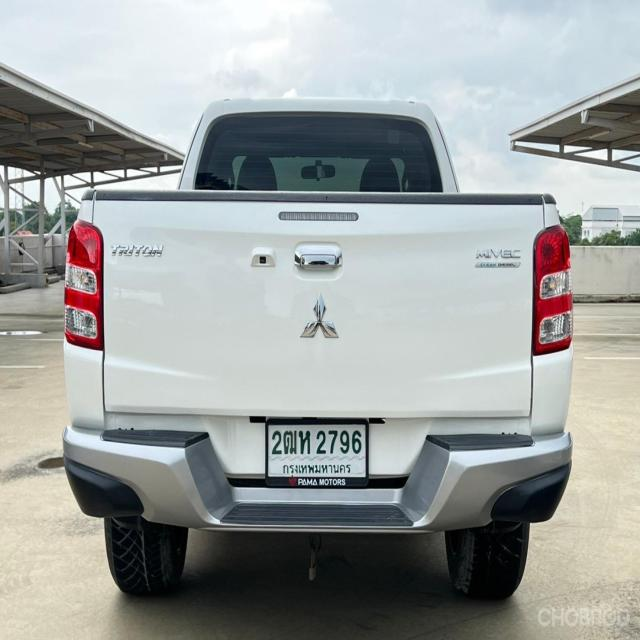license_plate: (264, 418, 370, 489)
